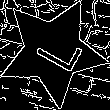L_NW: (24, 26, 82, 77)
